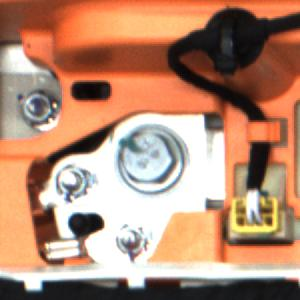nut_b: (108, 120, 185, 195)
screw_s: (52, 156, 89, 205), (19, 84, 58, 129), (116, 223, 159, 263)
